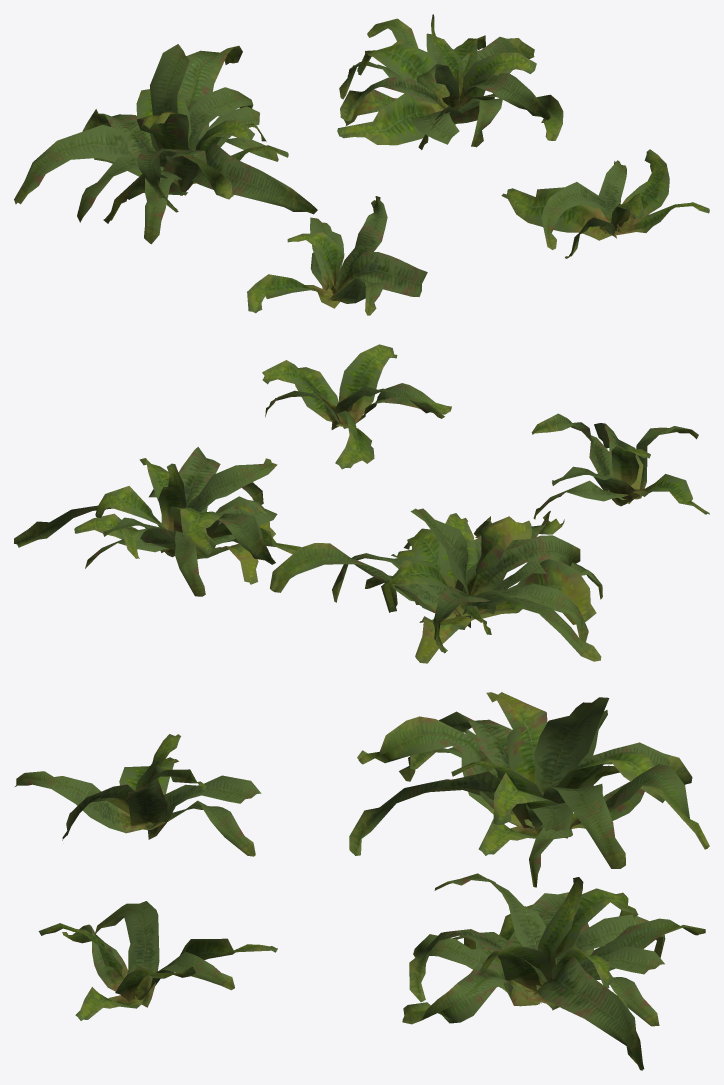
File: fern_02_lod.lo.glb
The picture shows the model from 3 angles, top to bottom: view 1: azimuth 30°, elevation 25°; view 2: azimuth 150°, elevation 25°; view 3: azimuth 270°, elevation 25°; orthographic projection. The views are drawn at different scales.
Parts seen in each view (by area): view 1: fern_02_b, fern_02_c, fern_02_a, fern_02_d; view 2: fern_02_b, fern_02_c, fern_02_d, fern_02_a; view 3: fern_02_b, fern_02_c, fern_02_a, fern_02_d.
Part boxes in pixels (bbox=[...]): fern_02_b: bbox=[14, 44, 317, 244]; fern_02_c: bbox=[337, 14, 563, 149]; fern_02_a: bbox=[247, 196, 427, 315]; fern_02_d: bbox=[501, 149, 709, 258]; fern_02_b: bbox=[270, 508, 602, 663]; fern_02_c: bbox=[14, 447, 301, 596]; fern_02_d: bbox=[262, 344, 451, 469]; fern_02_a: bbox=[531, 413, 709, 519]; fern_02_b: bbox=[349, 692, 709, 887]; fern_02_c: bbox=[402, 873, 705, 1070]; fern_02_a: bbox=[15, 734, 261, 856]; fern_02_d: bbox=[38, 901, 277, 1020].
Size of the model in its own units: 1.97 by 0.4277 by 1.72.
1 material, 1 textured.
